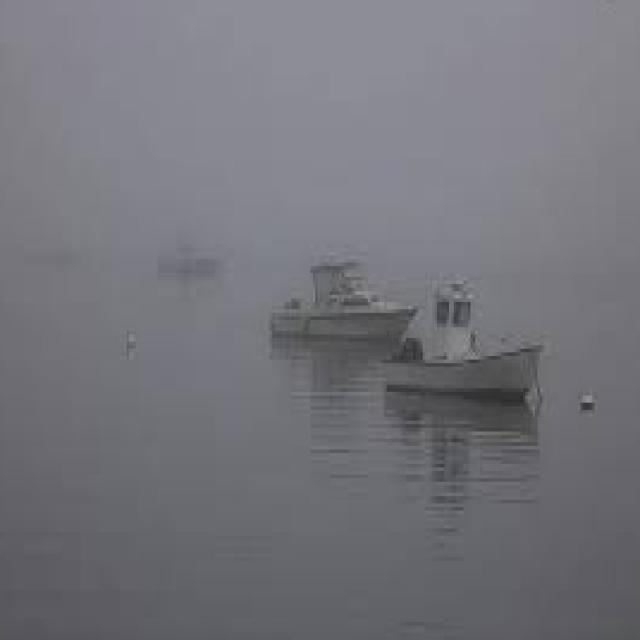houseboat: (381, 270, 549, 401), (268, 243, 414, 343)
